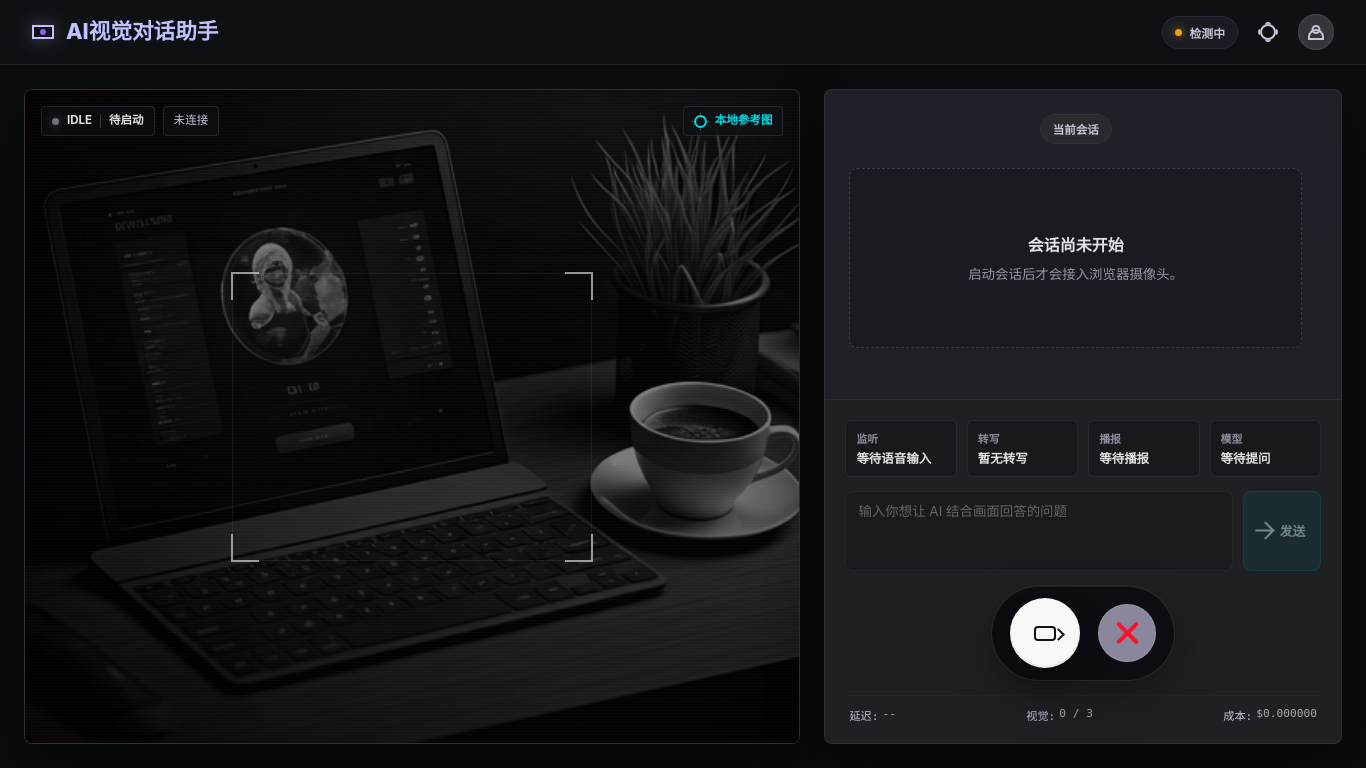
Test: App › shows model settings save errors
The image size is (1366, 768).
Click the button named "设置" at coordinates (1268, 32), box [1250, 14, 1286, 50]
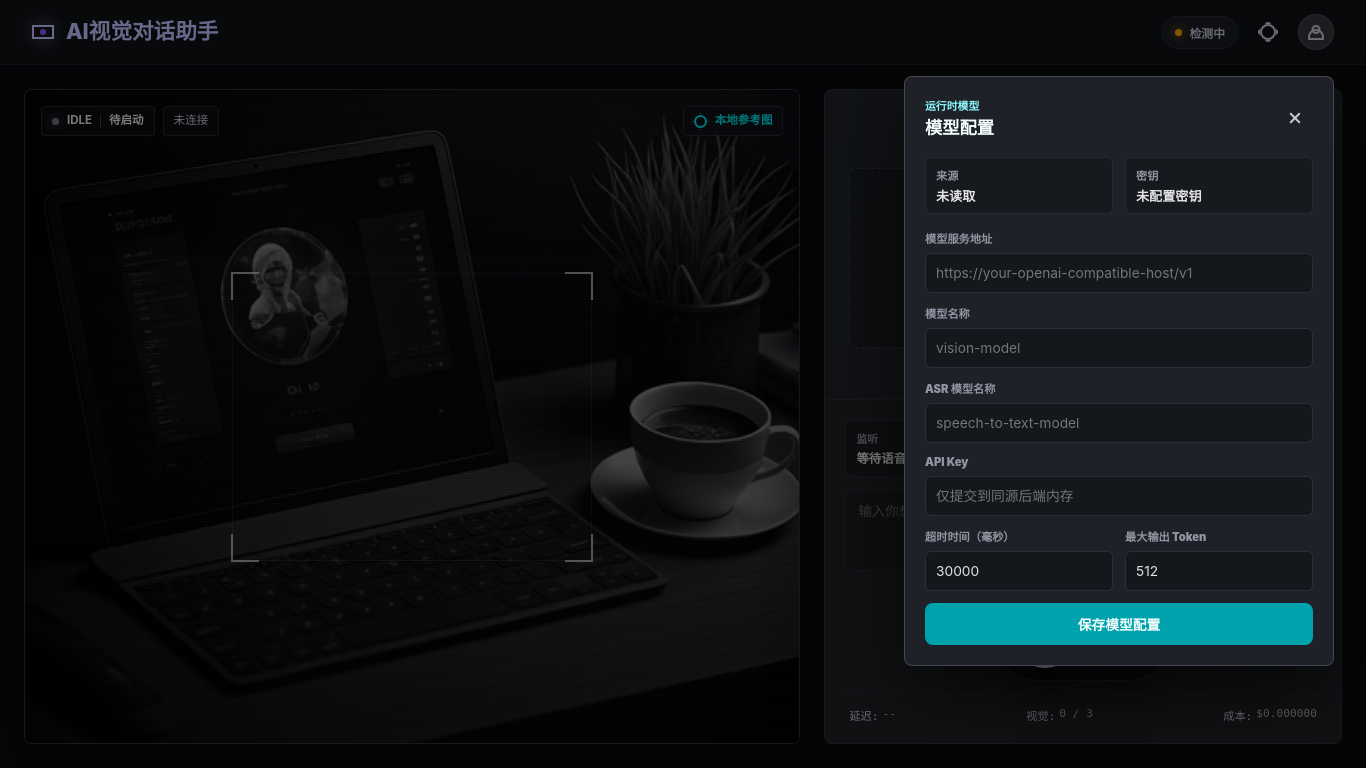
Type "https://runtime-model.example.test/v1" into the field labelled "模型服务地址" at coordinates (1119, 273), box [925, 253, 1313, 293]
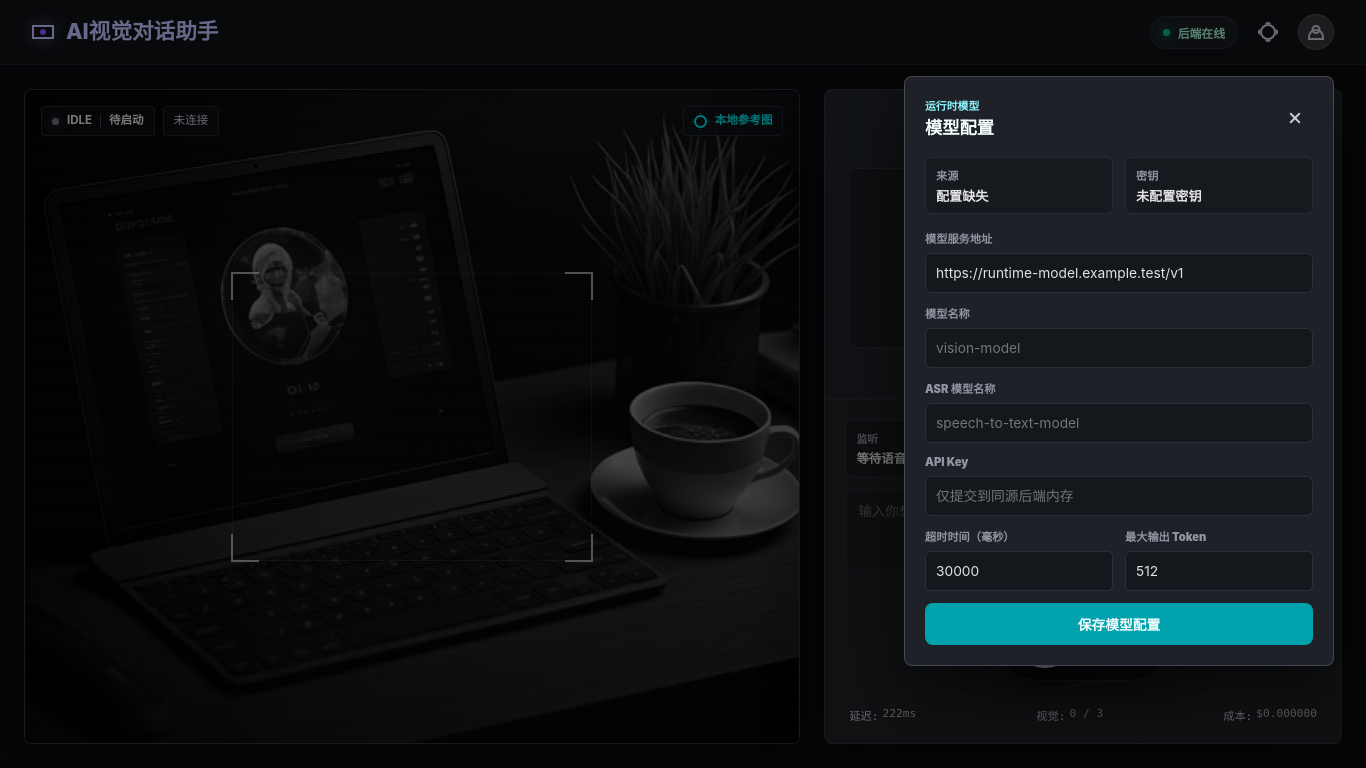
Type "runtime-vision-model" into the field labelled "模型名称" at coordinates (1119, 348), box [925, 328, 1313, 368]
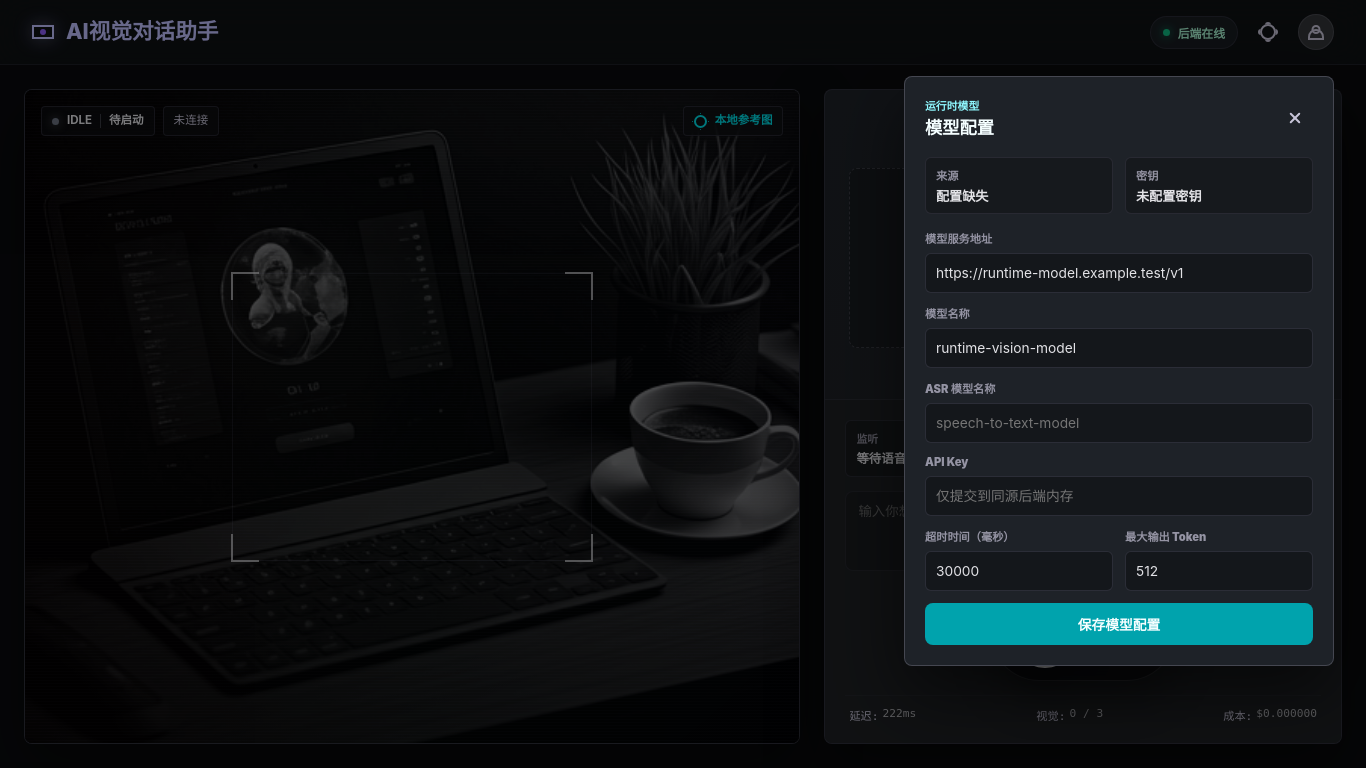
Type "runtime-asr-model" into the field labelled "ASR 模型名称" at coordinates (1119, 423), box [925, 403, 1313, 443]
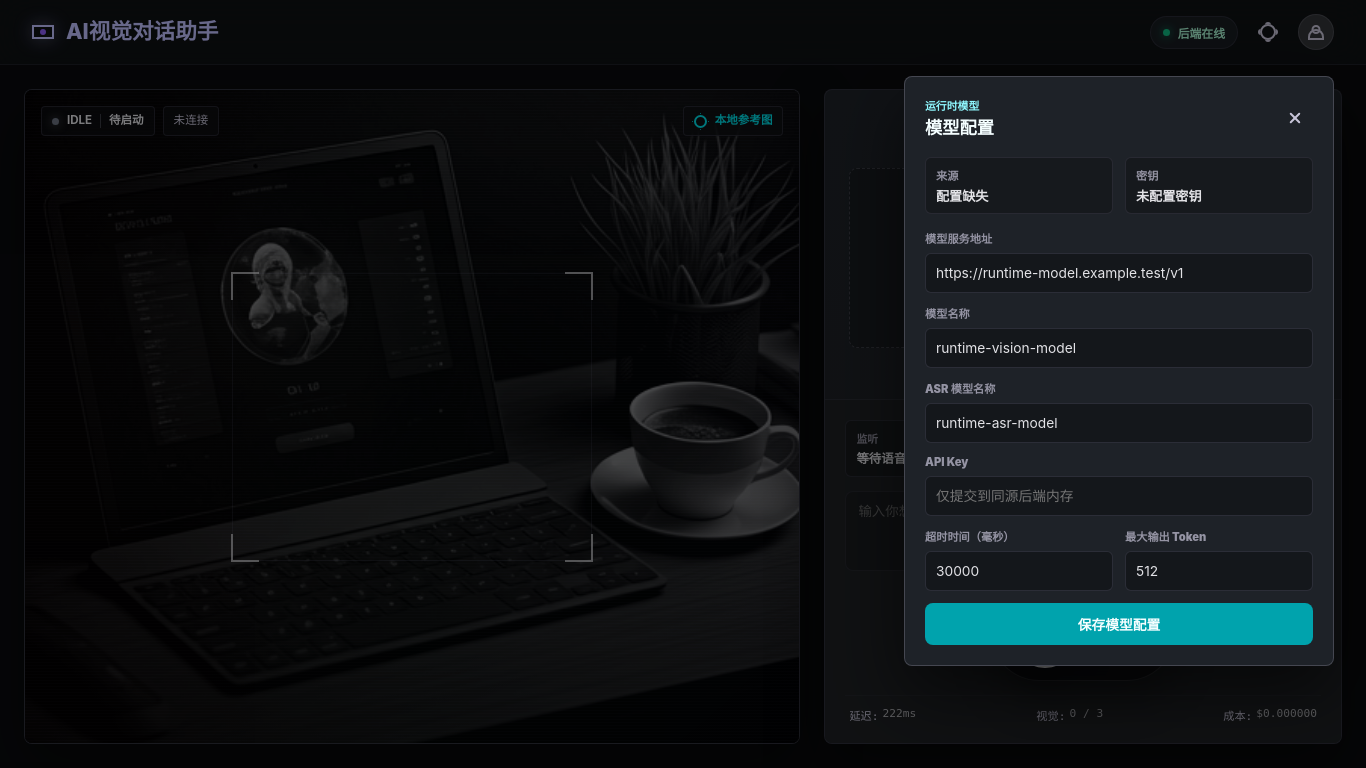
Type "runtime-secret" into the password field labelled "API Key" at coordinates (1119, 496), box [925, 476, 1313, 516]
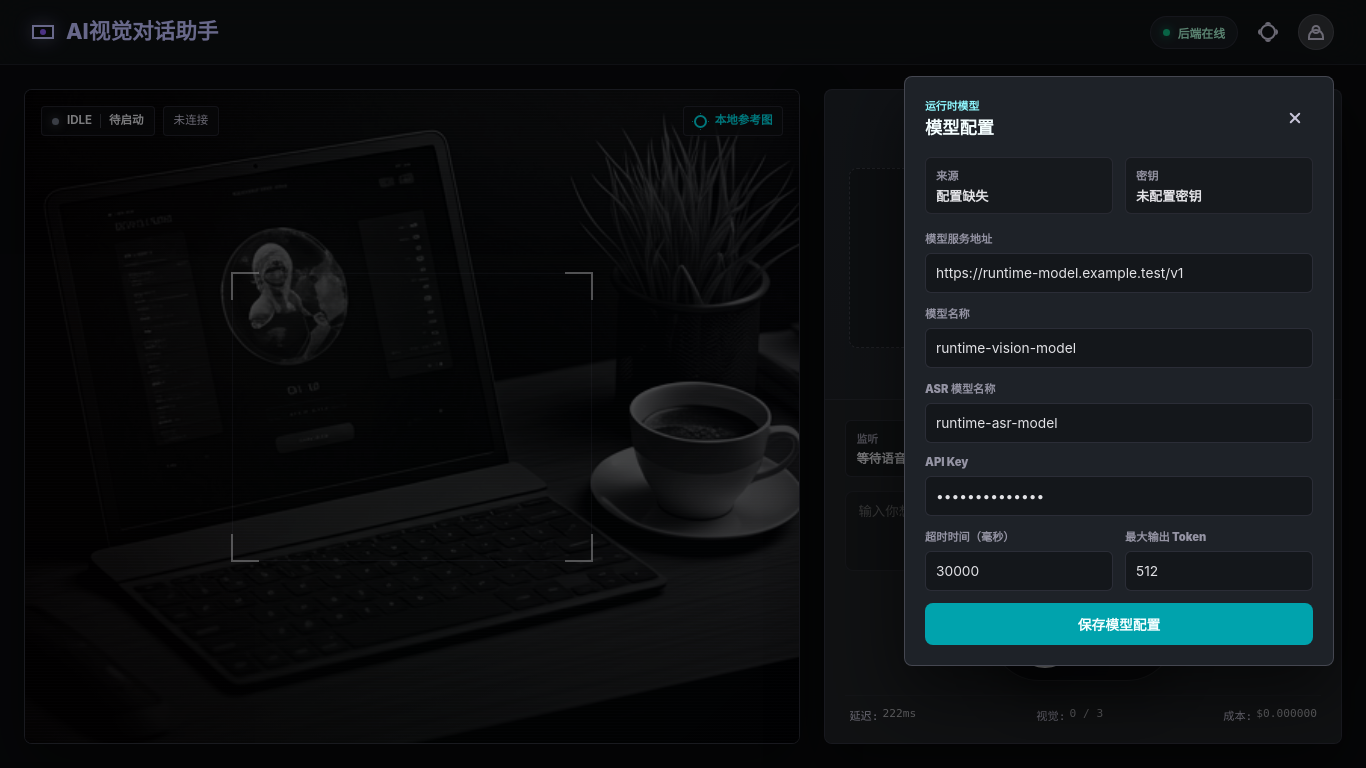
Click the button "保存模型配置" at coordinates (1119, 624), box [925, 603, 1313, 645]
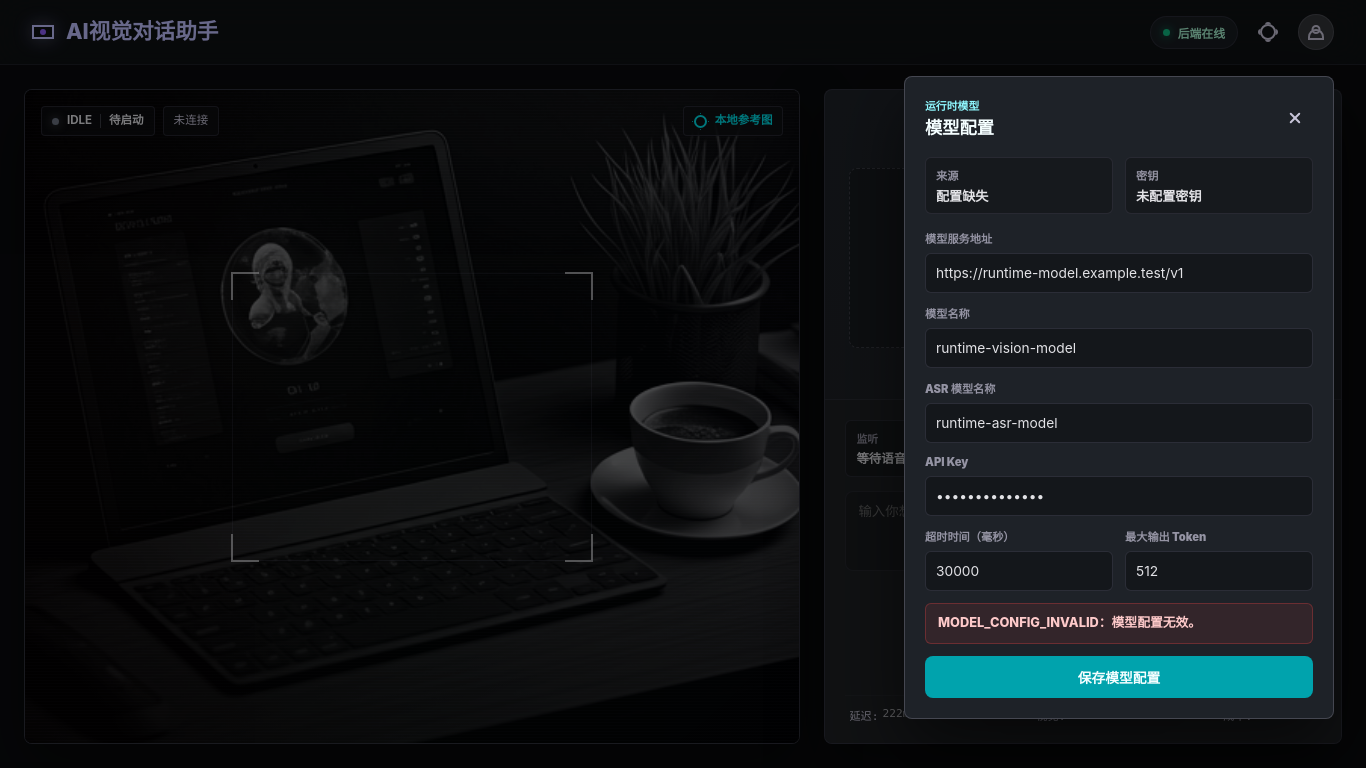
Now the text "MODEL_CONFIG_INVALID：模型配置无效。" is shown, box [925, 603, 1313, 644]
